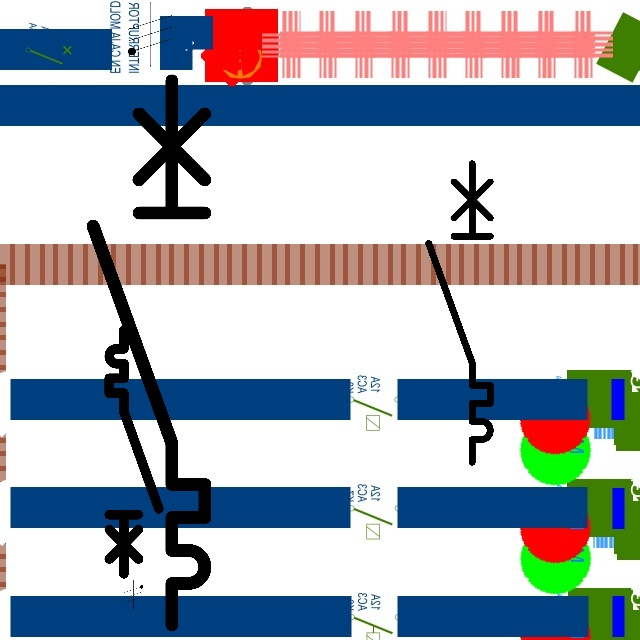interruptor_termomagnetico: (79, 66, 219, 638), (421, 156, 498, 470), (103, 324, 165, 580)
